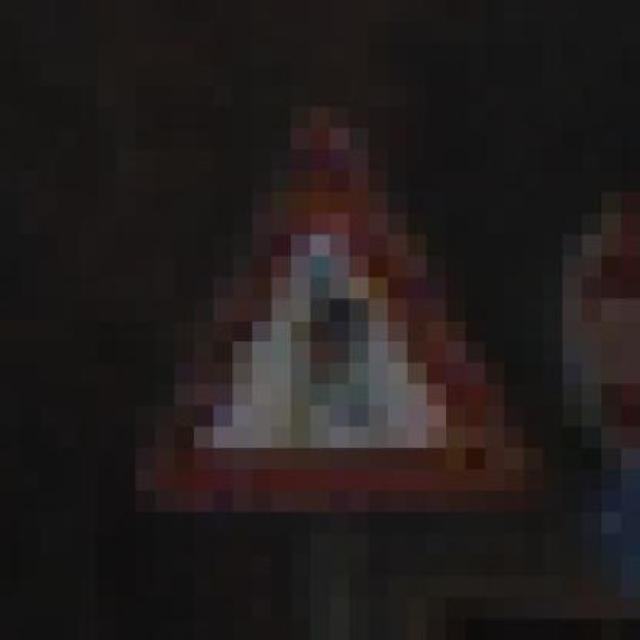Pedestrian Crossing: (116, 85, 544, 533)
